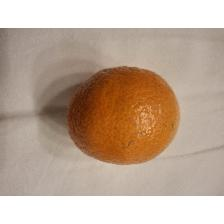Mandarine: (62, 62, 184, 166)
